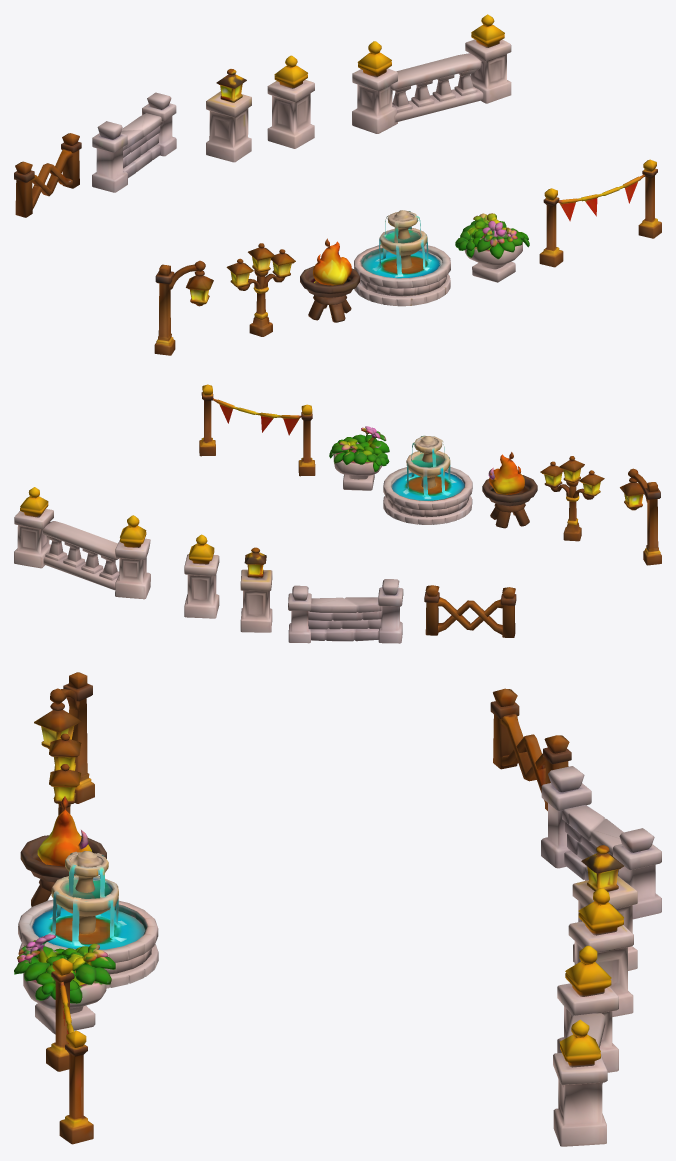
Rendered from sheet_source.glb.
3 renders of one model, top to bottom at view 1: azimuth 30°, elevation 25°; view 2: azimuth 150°, elevation 25°; view 3: azimuth 270°, elevation 25°, orthographic. The views are drawn at different scales.
Parts seen in each view (by area): view 1: tripo_node_697c3409-87f8-4fb2-953a-4c448f8071cb; view 2: tripo_node_697c3409-87f8-4fb2-953a-4c448f8071cb; view 3: tripo_node_697c3409-87f8-4fb2-953a-4c448f8071cb.
Part boxes in pixels (x1=…): tripo_node_697c3409-87f8-4fb2-953a-4c448f8071cb: x1=14, y1=14, x2=661, y2=355; tripo_node_697c3409-87f8-4fb2-953a-4c448f8071cb: x1=14, y1=384, x2=661, y2=643; tripo_node_697c3409-87f8-4fb2-953a-4c448f8071cb: x1=14, y1=672, x2=661, y2=1146.
Size of the model in its own units: 0.9995 by 0.1626 by 0.7437.
1 material, 1 textured.
